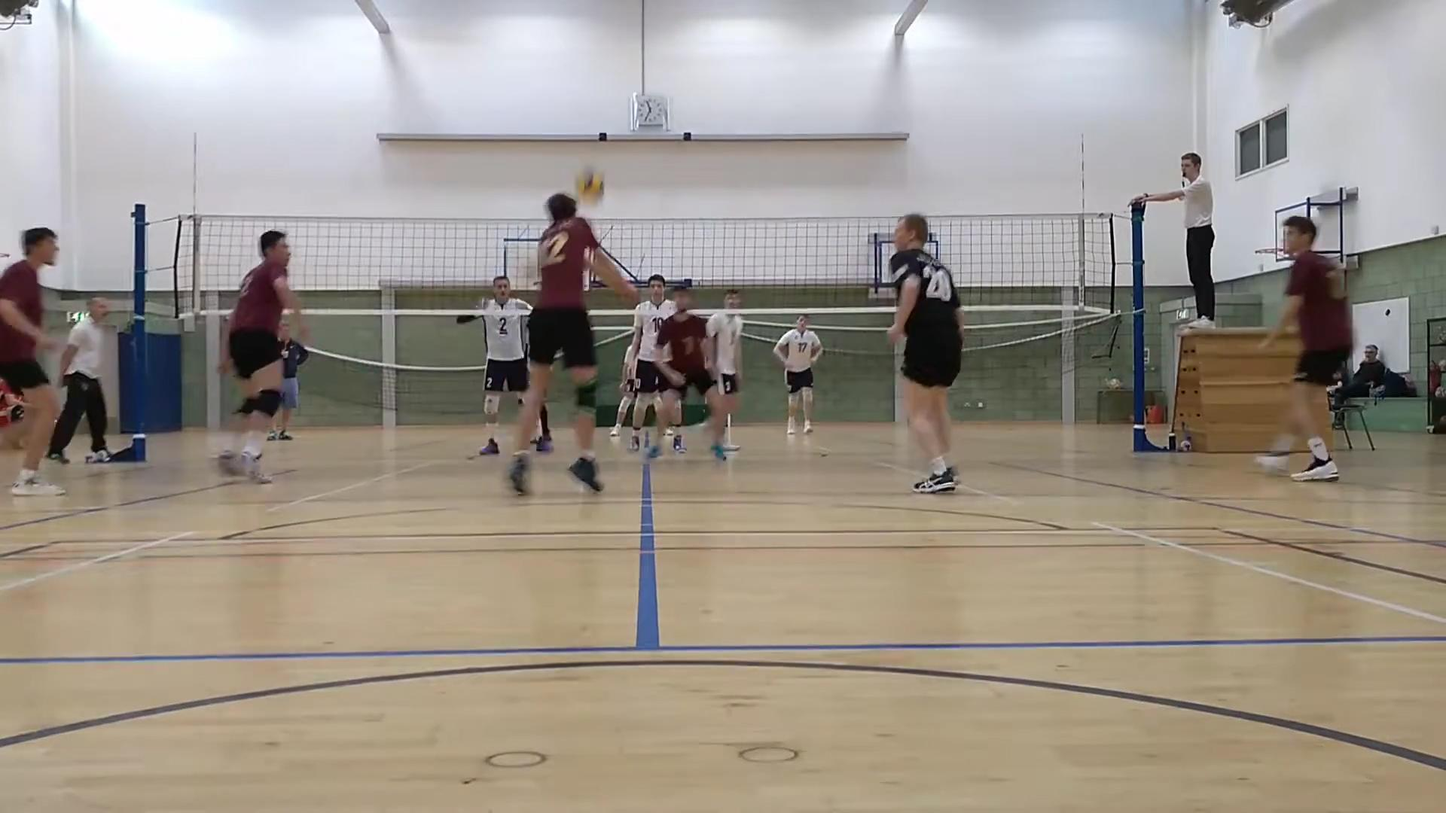Player: (1257, 216, 1353, 481), (218, 230, 308, 483), (888, 215, 962, 492), (0, 227, 65, 495), (456, 276, 531, 455), (647, 286, 725, 458), (629, 274, 675, 450), (773, 315, 822, 434), (707, 289, 743, 427), (610, 344, 636, 435)
Receive: (495, 180, 645, 492)
ball: (572, 166, 607, 205)
